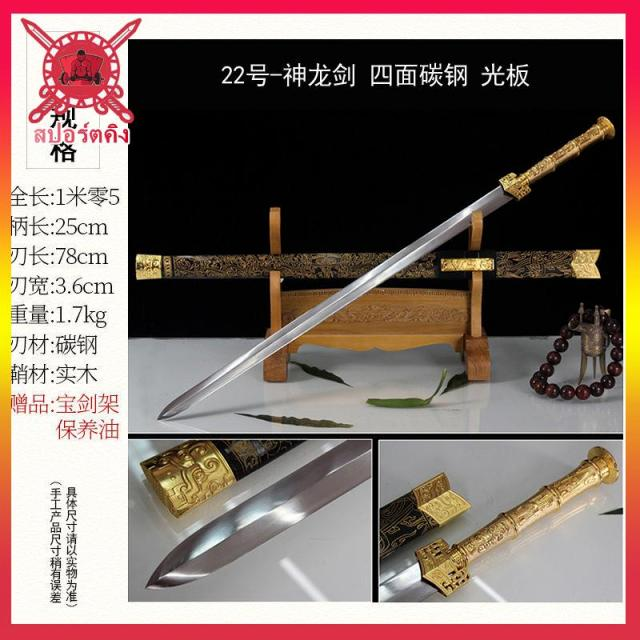long sword: (154, 113, 616, 413), (390, 440, 614, 608), (147, 444, 365, 592)
